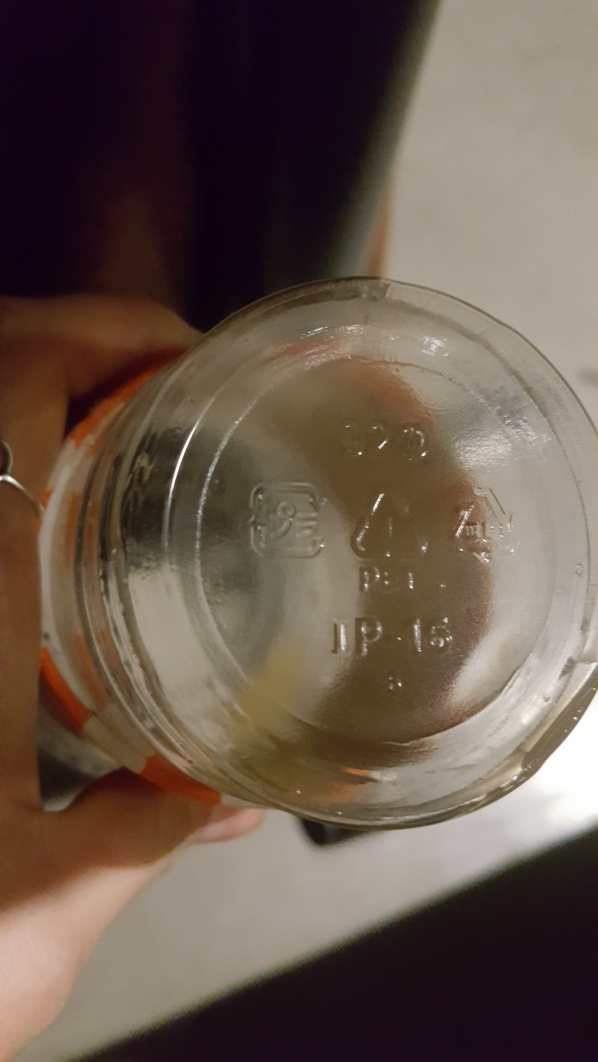recycle: (350, 482, 438, 598)
